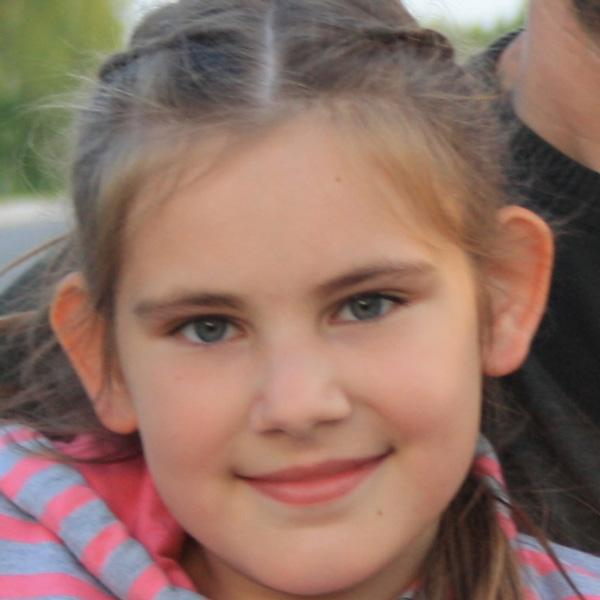Eyes: (317, 278, 422, 337), (155, 304, 256, 360)
